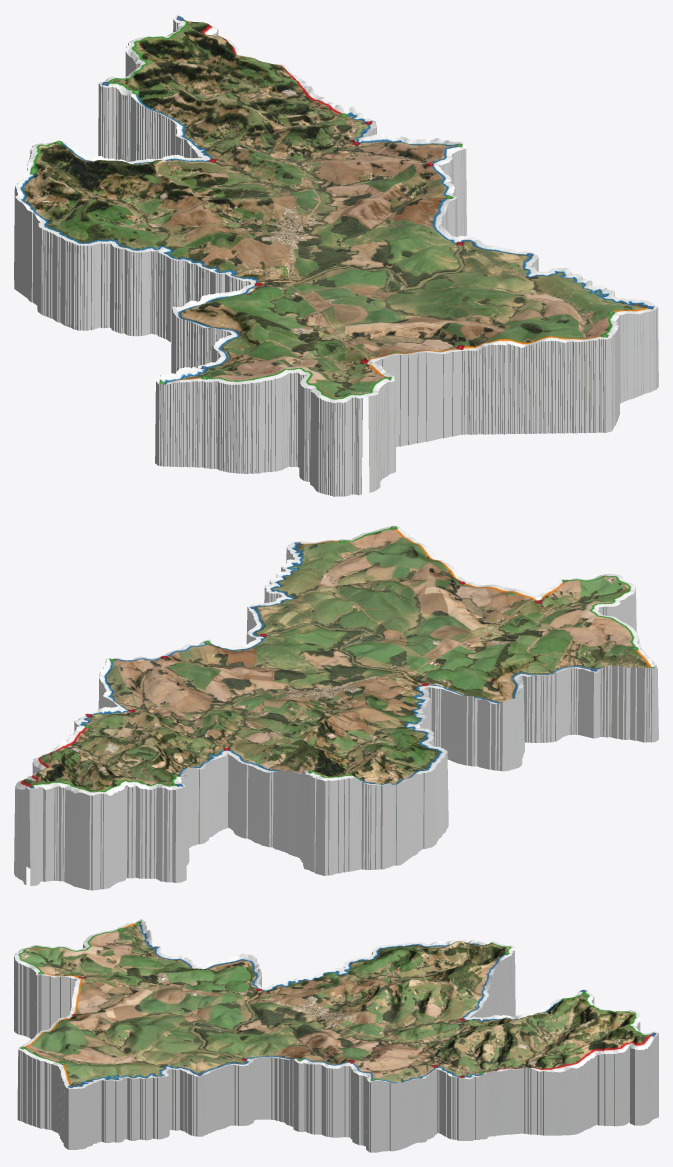
3 renders of one model, top to bottom at view 1: azimuth 30°, elevation 25°; view 2: azimuth 150°, elevation 25°; view 3: azimuth 270°, elevation 25°, orthographic. The views are drawn at different scales.
Size of the model in its own units: 0.9996 by 0.2257 by 1.59.
Materials: 1 (1 with a texture image).
